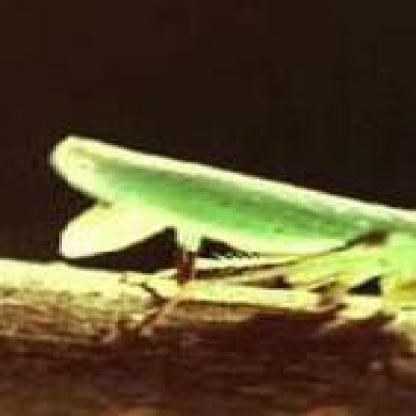Green-Leafhopper: (40, 132, 416, 324)
